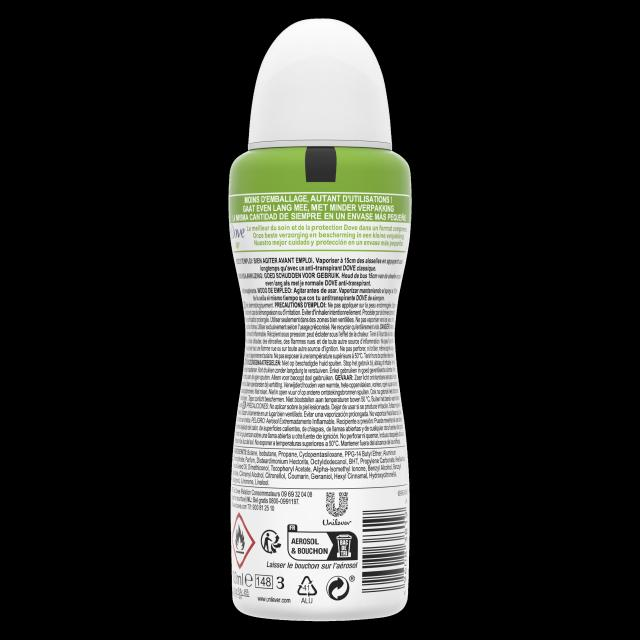GHS_Symbol_FLAME: (230, 512, 256, 570)
